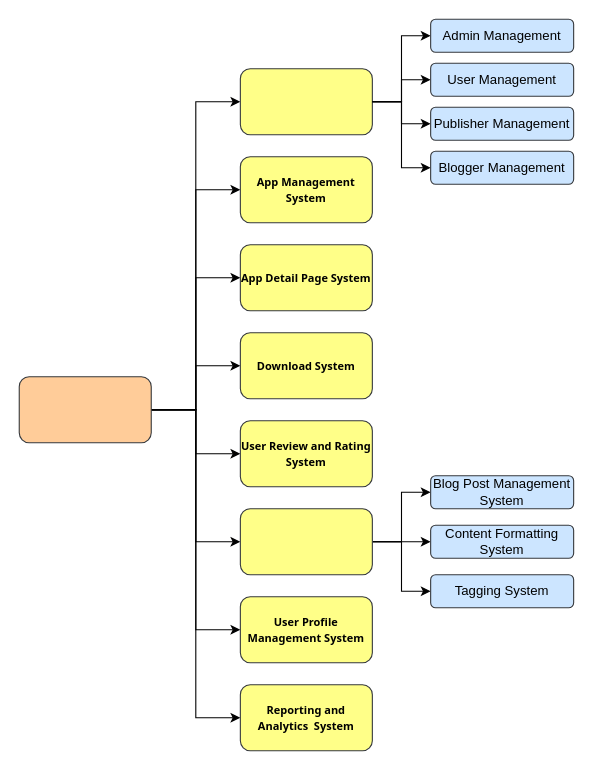
Image size: 593x770. Some labels were removed from this diagram. Each missing label, with the centre of its shape:
App Store: the point at 84,409
Blog Page System: the point at 305,541
User Authentication System: the point at 305,101
